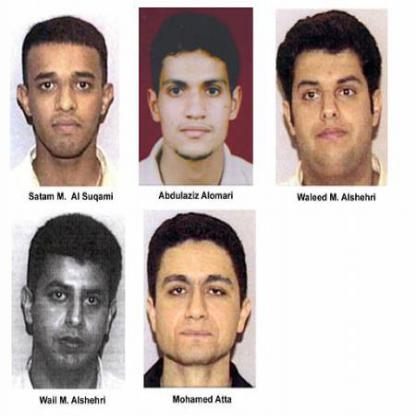face: (153, 218, 244, 370), (289, 16, 375, 174), (33, 218, 115, 375), (157, 19, 235, 163), (29, 19, 105, 160)
